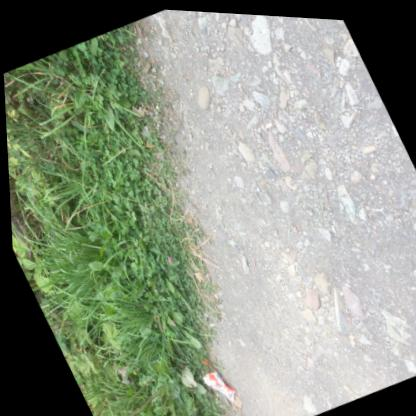Plastic: (198, 358, 231, 399)
Waste: (263, 118, 270, 125)
